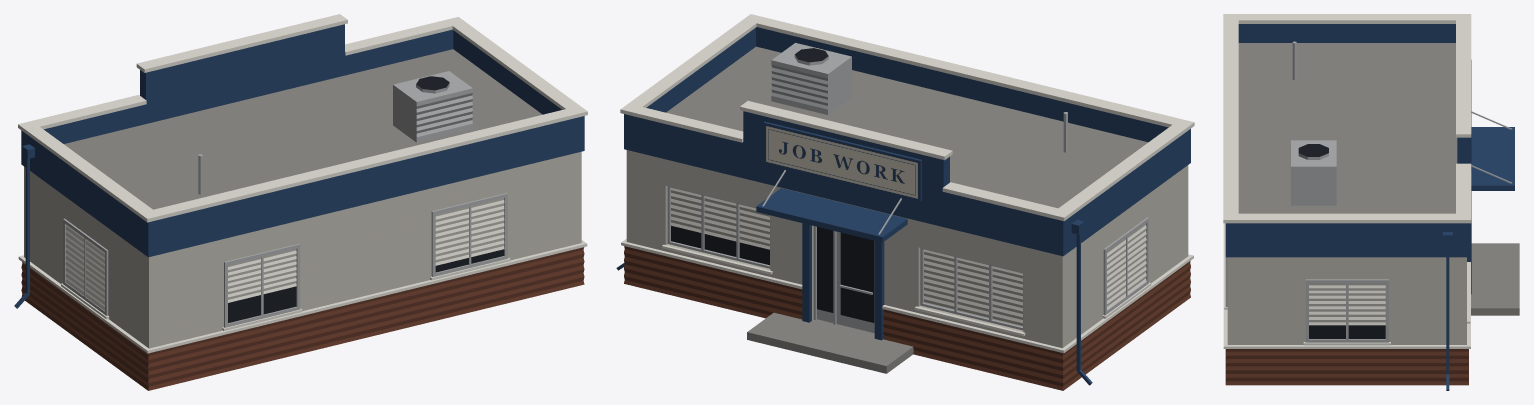
File: office.glb
3 renders of one model, left to right at view 1: azimuth 30°, elevation 25°; view 2: azimuth 150°, elevation 25°; view 3: azimuth 270°, elevation 25°, orthographic. The views are drawn at different scales.
Visible parts, largest first — view 1: Office; view 2: Office; view 3: Office.
Boxes of the visible parts, box(x1,y1,x2,y2) form: Office: box(14, 14, 587, 390); Office: box(616, 14, 1194, 390); Office: box(1223, 14, 1519, 390).
Size of the model in its own units: 10.89 by 4.53 by 6.19.
8 materials, 1 textured.
